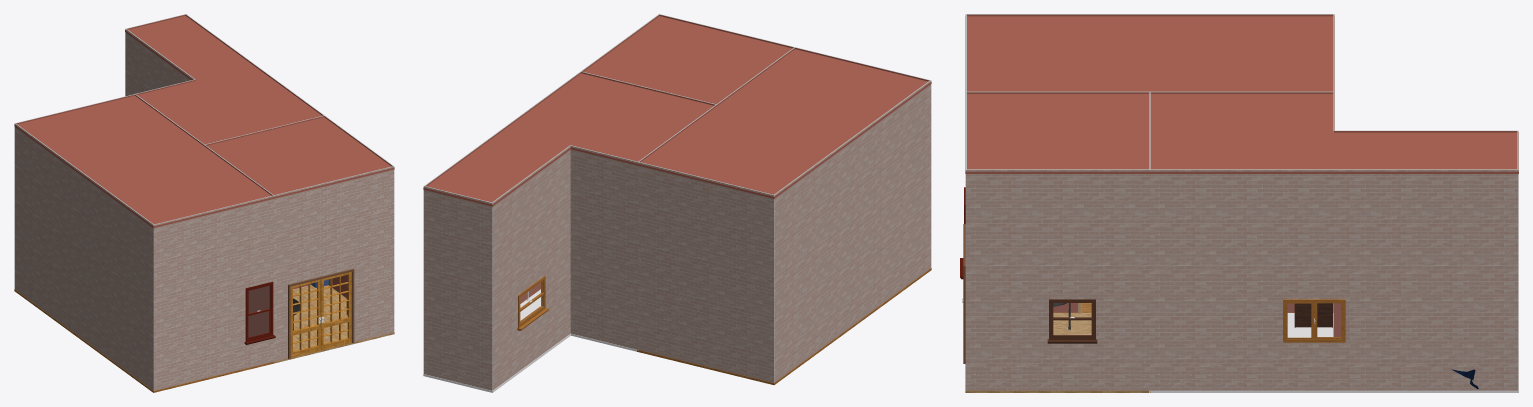
File: ProcTHOR-Train-122.glb
3 renders of one model, left to right at view 1: azimuth 30°, elevation 25°; view 2: azimuth 150°, elevation 25°; view 3: azimuth 270°, elevation 25°, orthographic. The views are drawn at different scales.
Visible parts, largest first — view 1: WallInside#wall|exterior|7.15|3.58|7.15|10.72, WallInside#wall|exterior|3.58|10.72|7.15|10.72, Ceiling#room|6|c, WallInside#wall|exterior|0.00|10.72|3.58|10.72, Ceiling#room|2|c, Ceiling#room|7|c, WallInside#wall|exterior|1.79|0.00|1.79|3.58, Floor#room|7|f, Doorway_Door_5b, Doorway_Door_5a, WallInside#wall|6|3.58|7.15|3.58|10.72, Window_Hung_32x60 (+3 smaller); view 2: WallInside#wall|exterior|7.15|3.58|7.15|10.72, WallInside#wall|exterior|3.58|3.58|7.15|3.58, Ceiling#room|6|c, Ceiling#room|2|c, WallInside#wall|exterior|1.79|0.00|1.79|3.58, WallInside#wall|exterior|0.00|0.00|1.79|0.00, WallInside#wall|exterior|1.79|3.58|3.58|3.58, Ceiling#room|7|c, Floor#room|2|f, Floor#room|6|f, Window_Hung_48x32, WallInside#wall|2|0.00|0.00|0.00|7.15; view 3: WallInside#wall|exterior|0.00|0.00|0.00|7.15, WallInside#wall|exterior|0.00|7.15|0.00|10.72, Ceiling#room|6|c, Ceiling#room|2|c, Ceiling#room|7|c, Floor#room|2|f, Floor#room|7|f, Window_Slider_48x36, WallInside#wall|6|7.15|3.58|7.15|10.72, Window_Hung_36x32, Dresser_318_1, WallInside#wall|2|1.79|0.00|1.79|3.58 (+1 smaller).
Boxes of the visible parts, bbox=[...] form: WallInside#wall|exterior|7.15|3.58|7.15|10.72: bbox=[14, 123, 153, 390]; WallInside#wall|exterior|3.58|10.72|7.15|10.72: bbox=[153, 195, 274, 390]; Ceiling#room|6|c: bbox=[14, 96, 274, 227]; WallInside#wall|exterior|0.00|10.72|3.58|10.72: bbox=[273, 166, 394, 361]; Ceiling#room|2|c: bbox=[125, 16, 321, 144]; Ceiling#room|7|c: bbox=[207, 117, 394, 198]; WallInside#wall|exterior|1.79|0.00|1.79|3.58: bbox=[125, 29, 194, 96]; Floor#room|7|f: bbox=[273, 285, 394, 363]; Doorway_Door_5b: bbox=[320, 272, 351, 350]; Doorway_Door_5a: bbox=[290, 279, 320, 357]; WallInside#wall|6|3.58|7.15|3.58|10.72: bbox=[204, 145, 273, 337]; Window_Hung_32x60: bbox=[244, 281, 275, 344]; WallInside#wall|exterior|7.15|3.58|7.15|10.72: bbox=[774, 80, 931, 382]; WallInside#wall|exterior|3.58|3.58|7.15|3.58: bbox=[637, 162, 773, 382]; Ceiling#room|6|c: bbox=[637, 49, 931, 198]; Ceiling#room|2|c: bbox=[423, 73, 713, 206]; WallInside#wall|exterior|1.79|0.00|1.79|3.58: bbox=[492, 145, 570, 390]; WallInside#wall|exterior|0.00|0.00|1.79|0.00: bbox=[423, 186, 492, 390]; WallInside#wall|exterior|1.79|3.58|3.58|3.58: bbox=[570, 145, 638, 349]; Ceiling#room|7|c: bbox=[583, 16, 792, 104]; Floor#room|2|f: bbox=[423, 289, 638, 392]; Floor#room|6|f: bbox=[637, 268, 931, 384]; Window_Hung_48x32: bbox=[517, 276, 549, 330]; WallInside#wall|2|0.00|0.00|0.00|7.15: bbox=[425, 72, 581, 303]; WallInside#wall|exterior|0.00|0.00|0.00|7.15: bbox=[1149, 169, 1518, 390]; WallInside#wall|exterior|0.00|7.15|0.00|10.72: bbox=[965, 169, 1150, 390]; Ceiling#room|6|c: bbox=[965, 15, 1334, 93]; Ceiling#room|2|c: bbox=[1149, 94, 1518, 173]; Ceiling#room|7|c: bbox=[965, 94, 1150, 173]; Floor#room|2|f: bbox=[1149, 313, 1518, 392]; Floor#room|7|f: bbox=[965, 313, 1150, 392]; Window_Slider_48x36: bbox=[1283, 299, 1345, 342]; WallInside#wall|6|7.15|3.58|7.15|10.72: bbox=[966, 14, 1334, 16]; Window_Hung_36x32: bbox=[1047, 299, 1097, 343]; Dresser_318_1: bbox=[1294, 303, 1332, 327]; WallInside#wall|2|1.79|0.00|1.79|3.58: bbox=[1333, 131, 1517, 336].
Size of what is drawn, in the model's own units: 7.29 by 4.78 by 10.87.
Materials: 213 (86 with a texture image).
